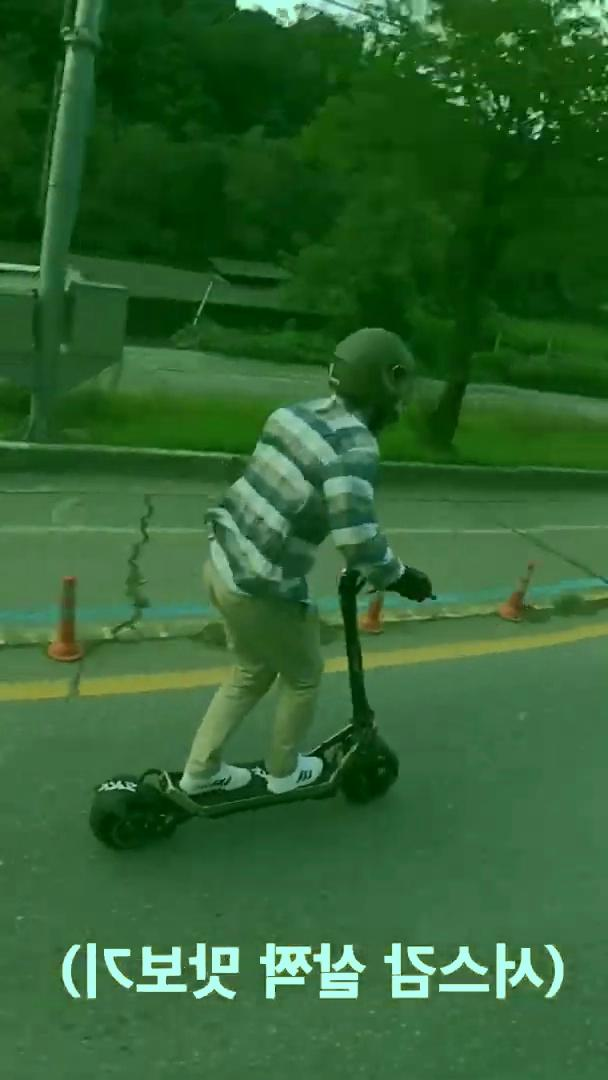helmet: (85, 322, 443, 858)
